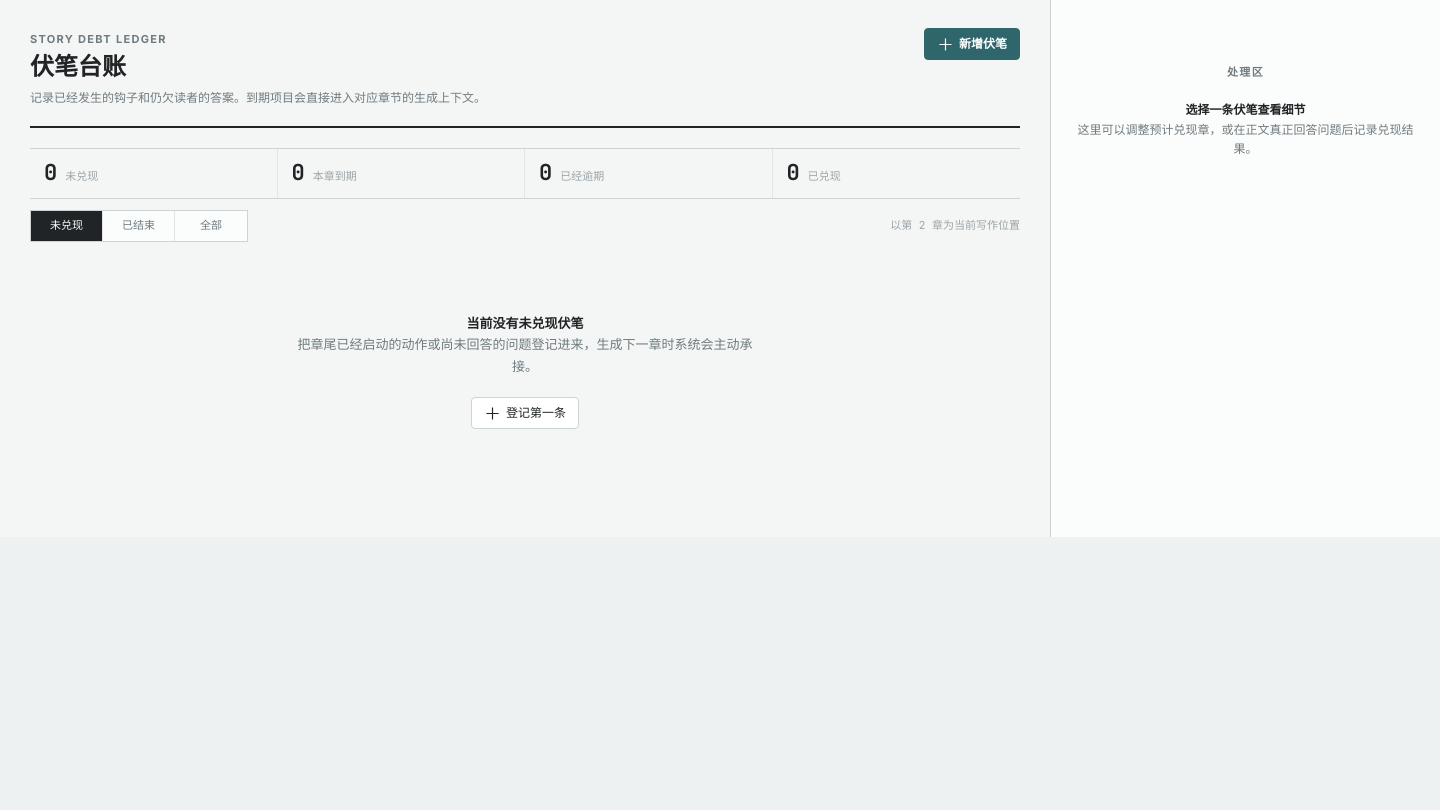
Test: StoryHookLedger › creates a concrete hook debt from the selected chapter
Click the button "新增伏笔" at (972, 44), box [924,28,1020,60]
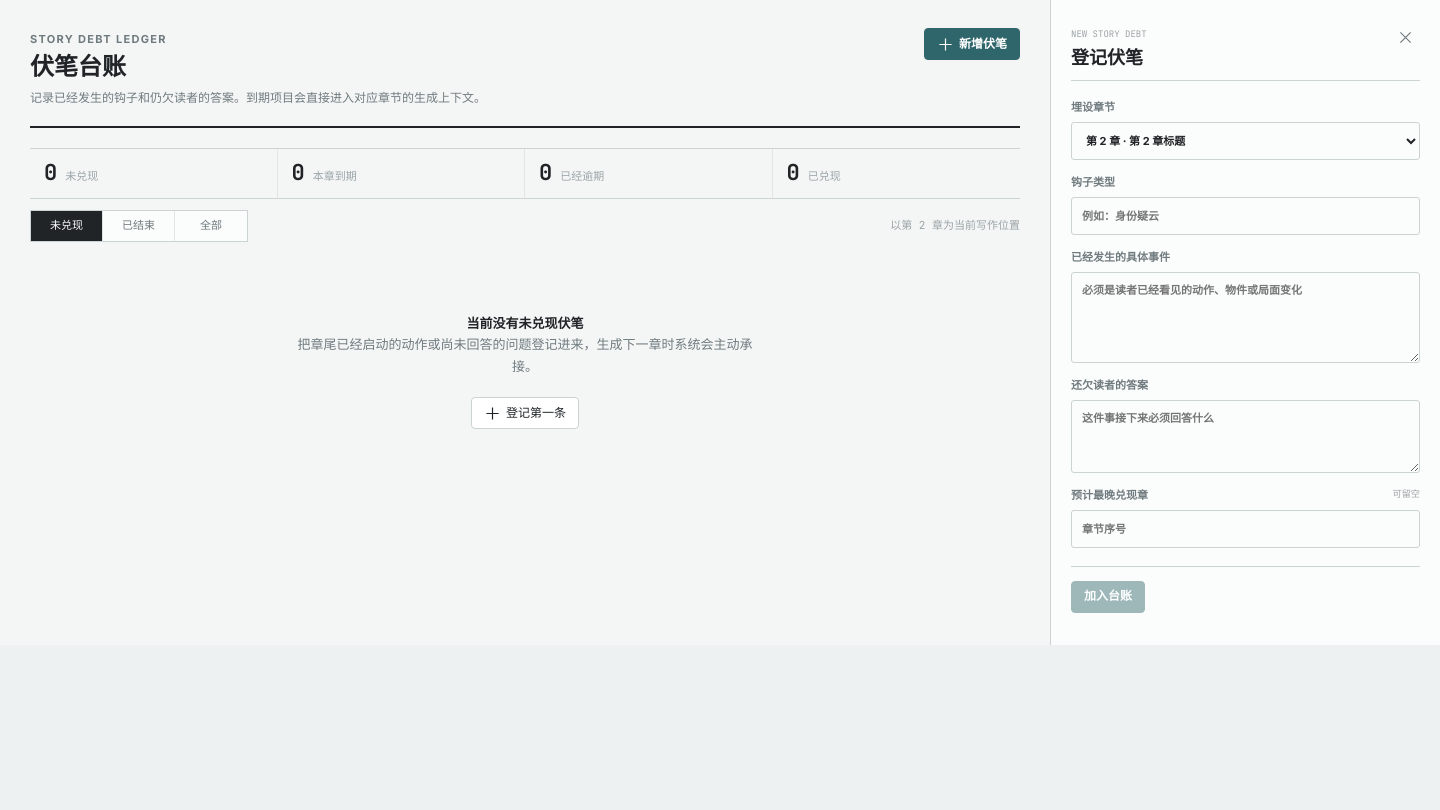
Type "证据缺口" into the field with placeholder "例如：身份疑云" at (1246, 216), box [1071,197,1420,235]
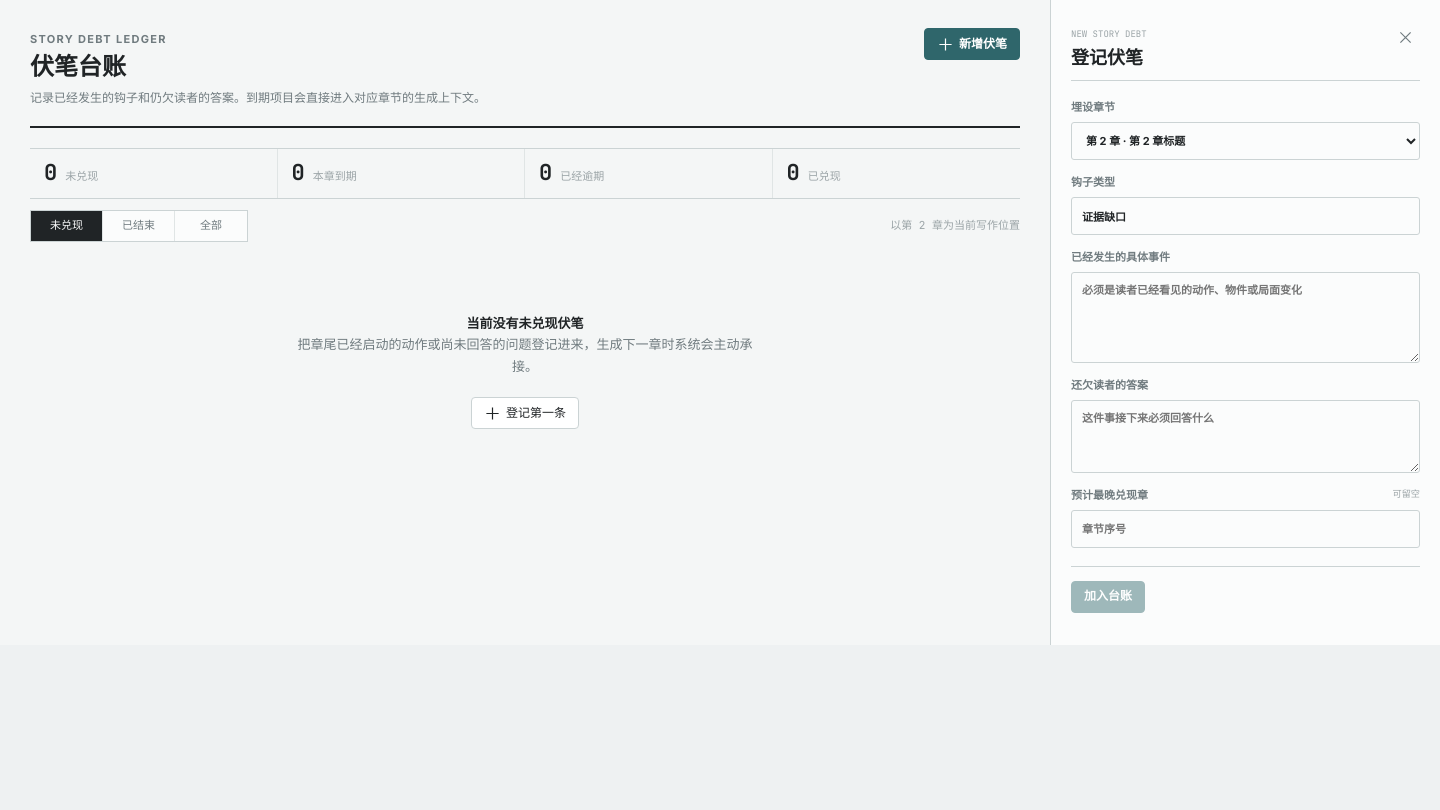
Type "账册最后一页已经被人撕走。" into the text box with placeholder "必须是读者已经看见的动作、物件或局面变化" at (1246, 318), box [1071,272,1420,363]
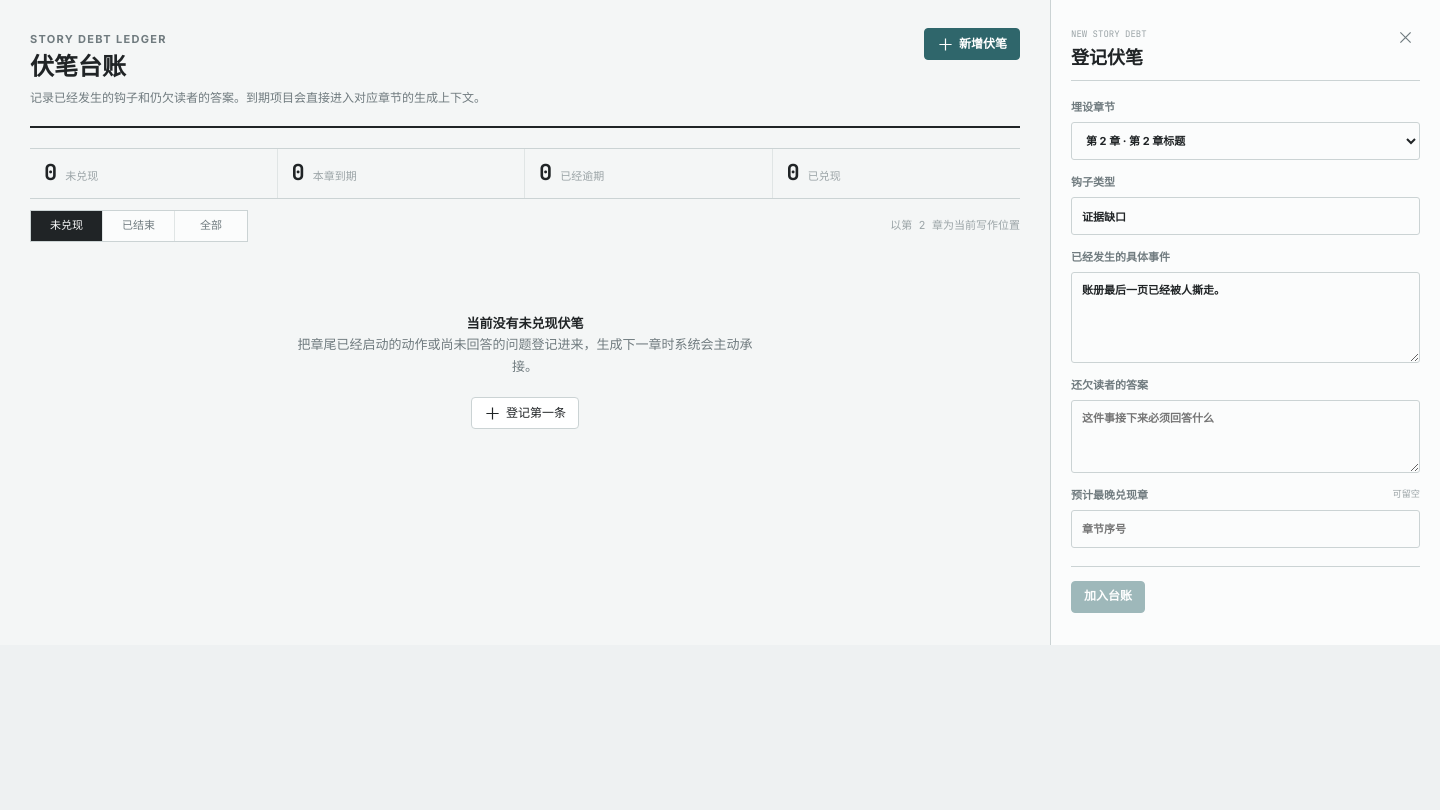
Type "谁先拿走了名单？" into the text box with placeholder "这件事接下来必须回答什么" at (1246, 436), box [1071,400,1420,473]
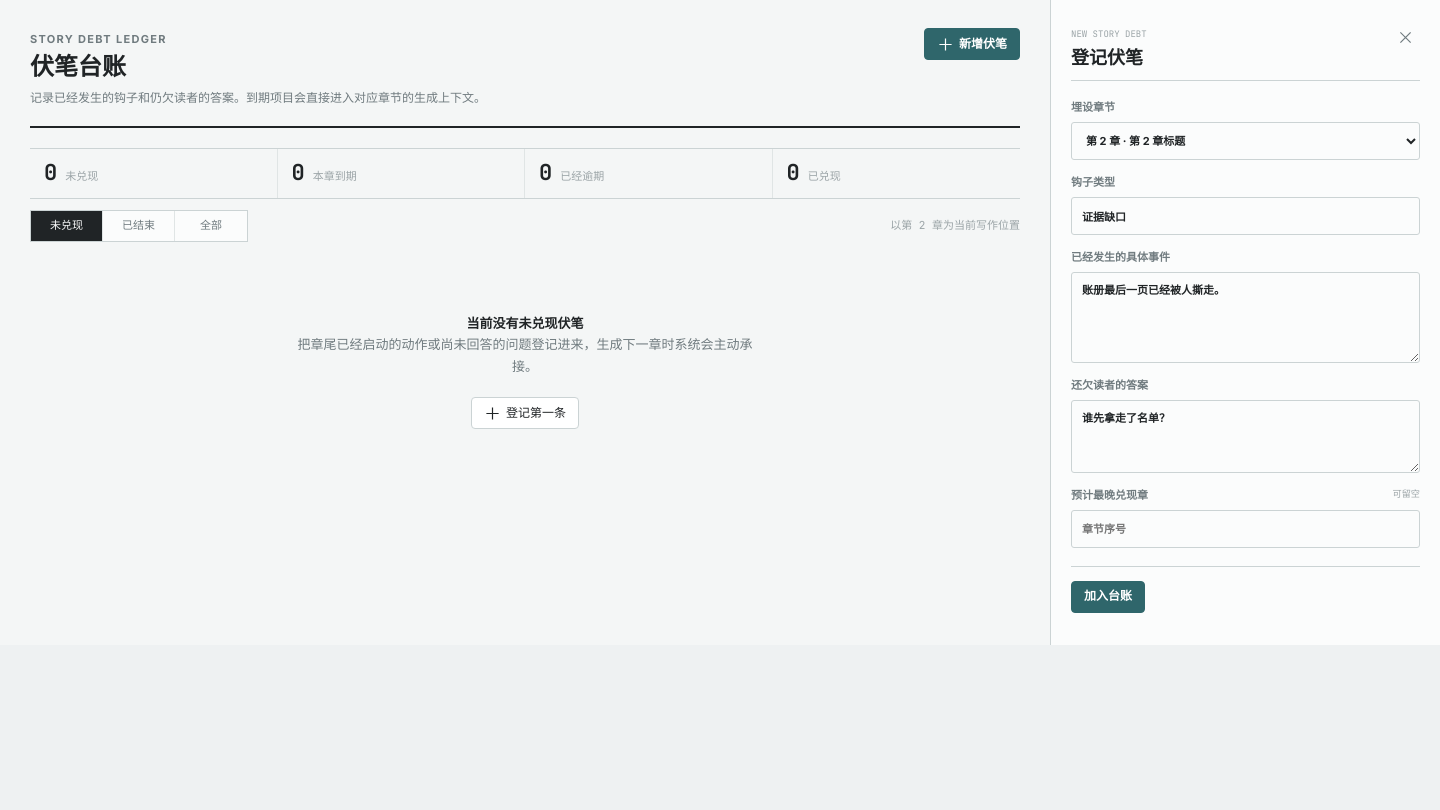
Type "4" into the number field labelled "预计最晚兑现章 可留空" at (1246, 529), box [1071,510,1420,548]
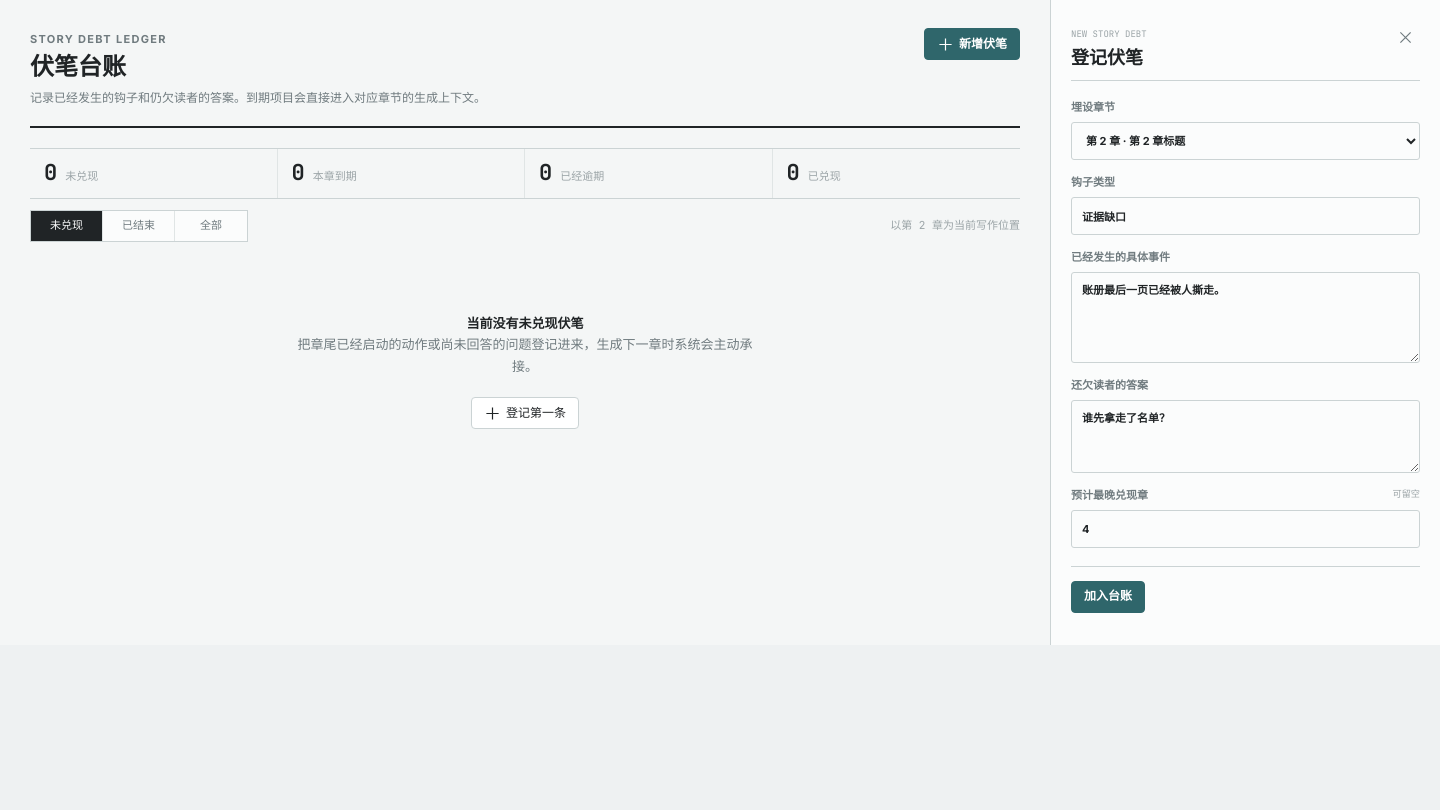
Click the button "加入台账" at (1108, 597), box [1071,581,1145,613]
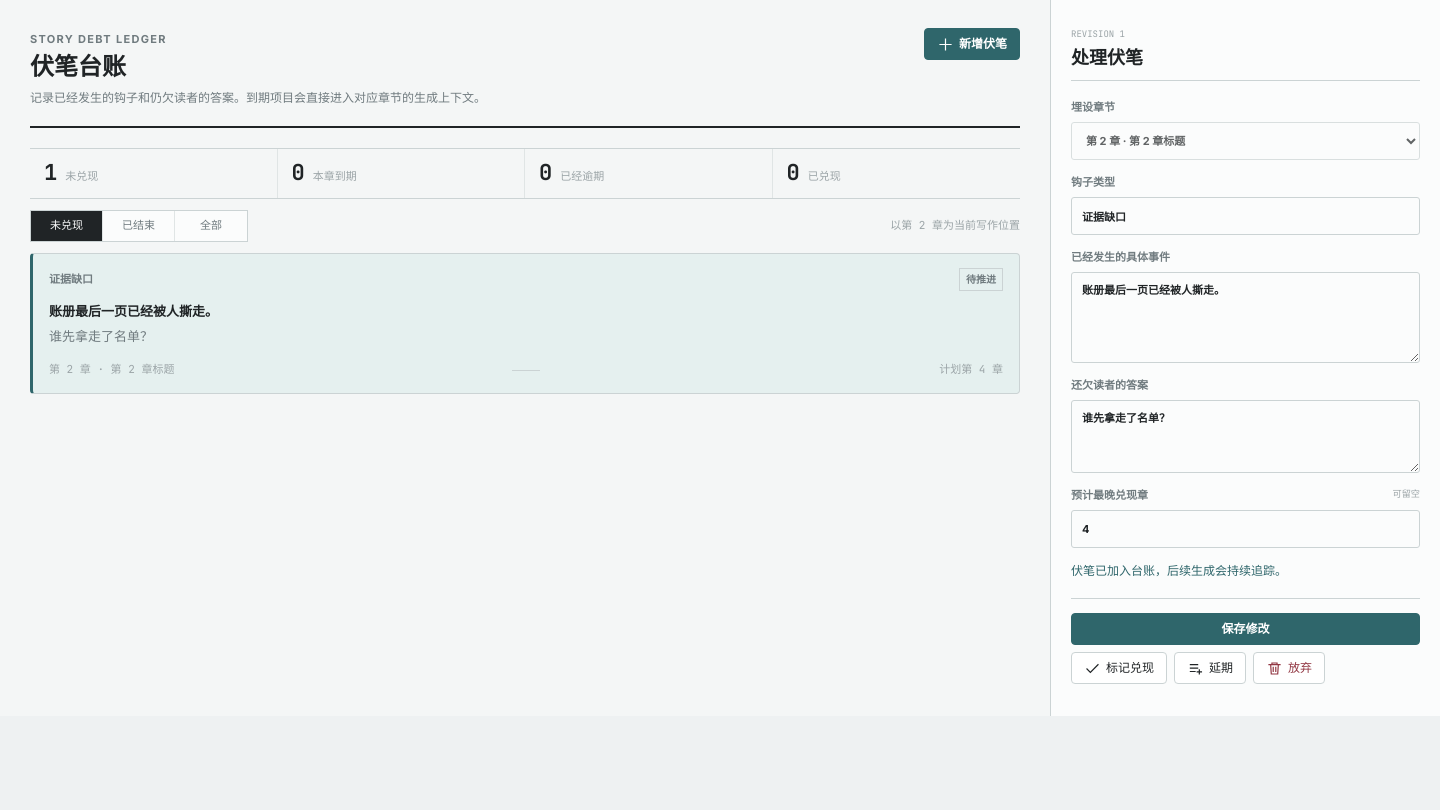
Expected: the text "后续生成会持续追踪" is shown, [1071,563,1287,578]
